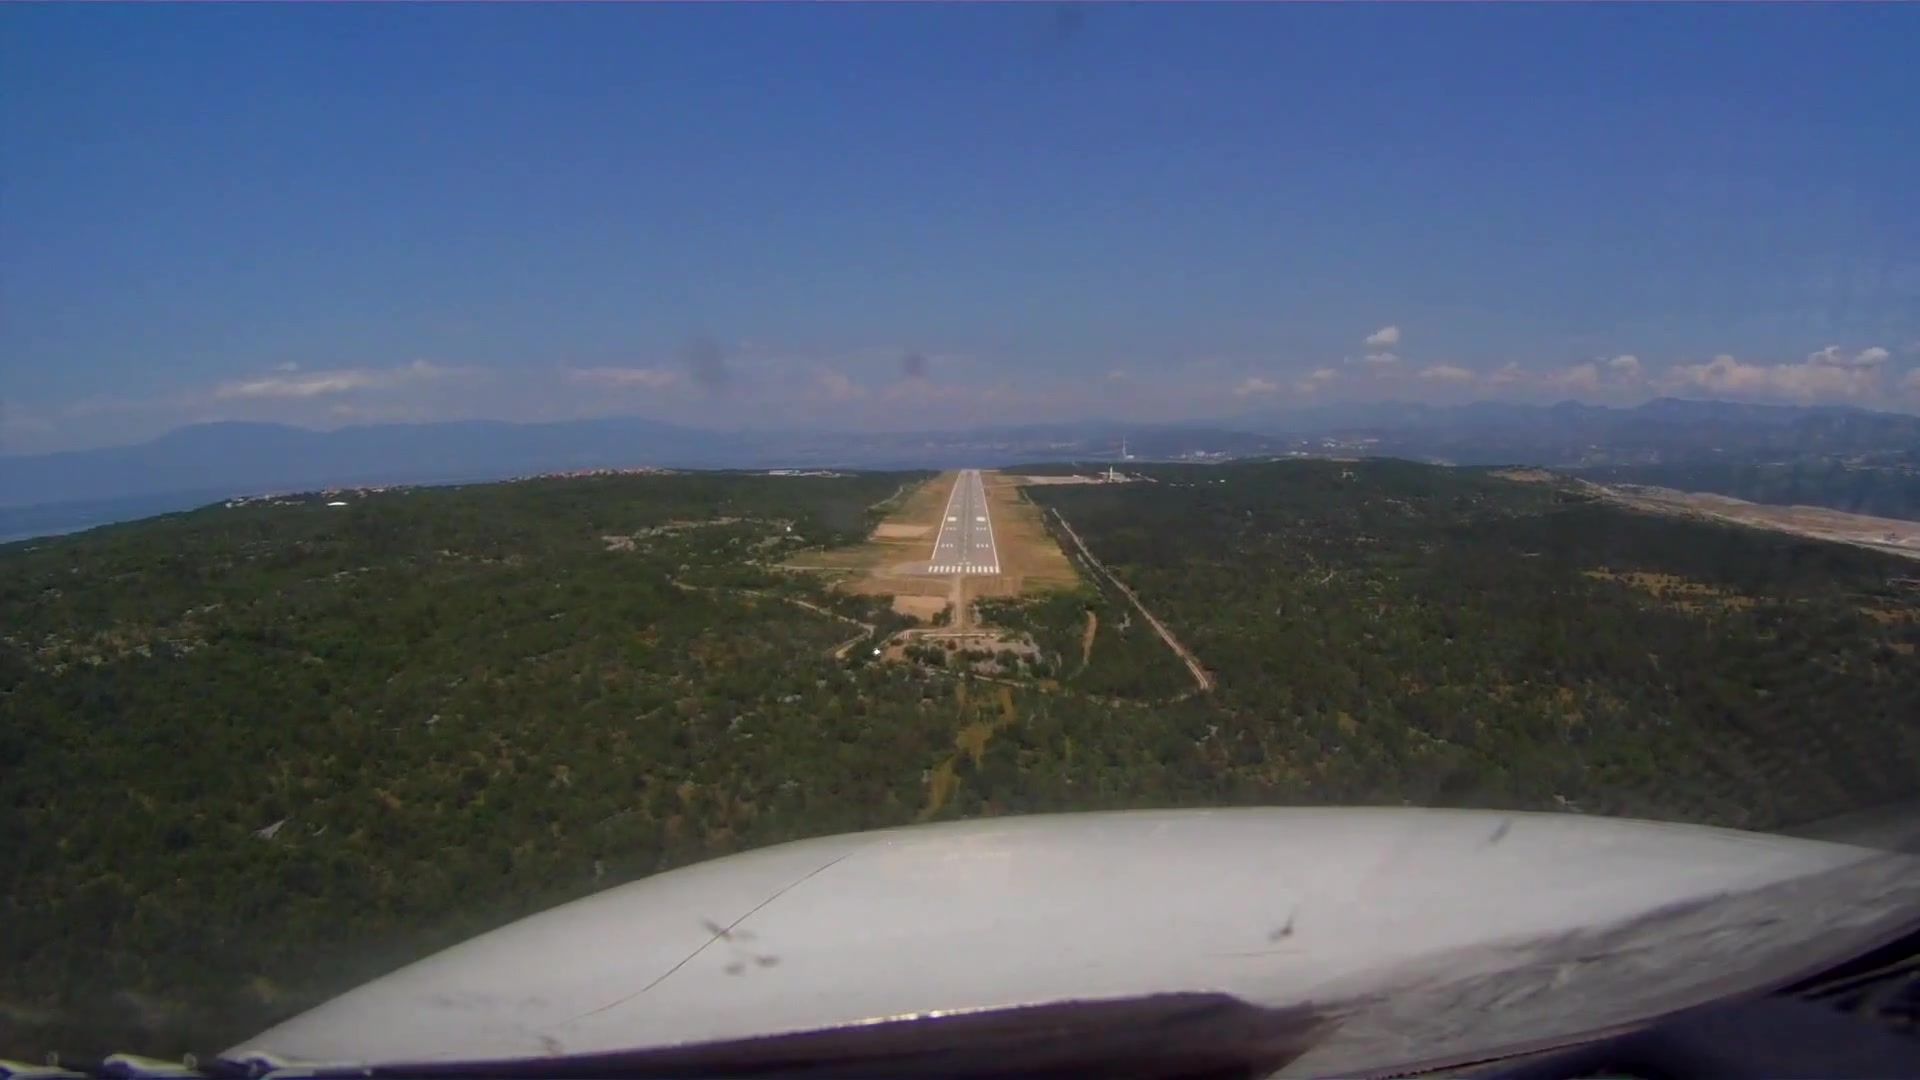entrance: (928, 564, 1002, 575)
runway: (923, 469, 1004, 580)
